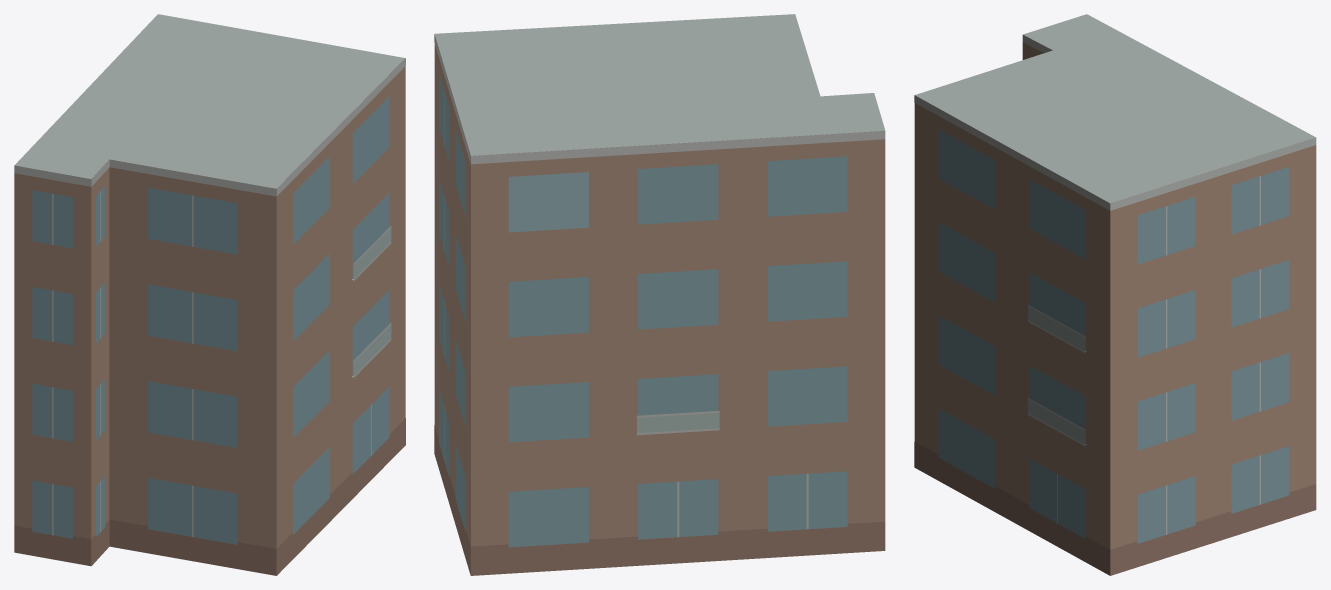
Rendered from survey-upis-32738573.glb.
3 renders of one model, left to right at view 1: azimuth 30°, elevation 25°; view 2: azimuth 150°, elevation 25°; view 3: azimuth 270°, elevation 25°, orthographic. The views are drawn at different scales.
Visible parts, largest first — view 1: survey-upis-32738573.tmp; view 2: survey-upis-32738573.tmp; view 3: survey-upis-32738573.tmp.
Part boxes in pixels (bbox=[...]): survey-upis-32738573.tmp: bbox=[14, 14, 405, 575]; survey-upis-32738573.tmp: bbox=[434, 14, 885, 575]; survey-upis-32738573.tmp: bbox=[914, 14, 1316, 575].
Size of the model in its own units: 13.32 by 12.2 by 11.94.
